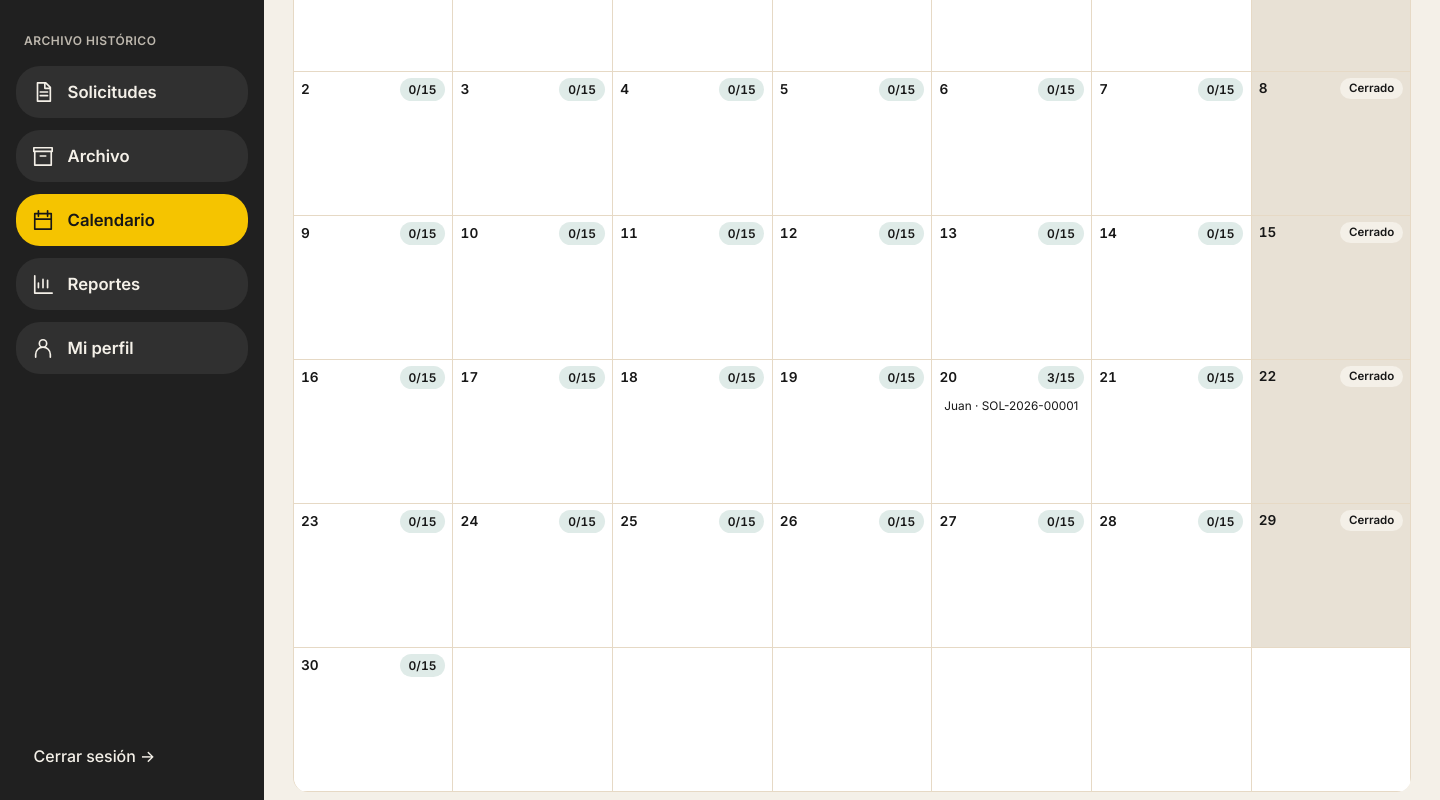
AppointmentsCalendarPage › shows the appointment detail when an appointment in the calendar is selected
The width and height of the screenshot is (1440, 800).
(page scrolled)
Expected: the heading "detalle de la cita" is not shown
Click the button with aria-label "acta de fundación de la villa" at (1012, 406), box [940, 394, 1084, 418]
(page scrolled)
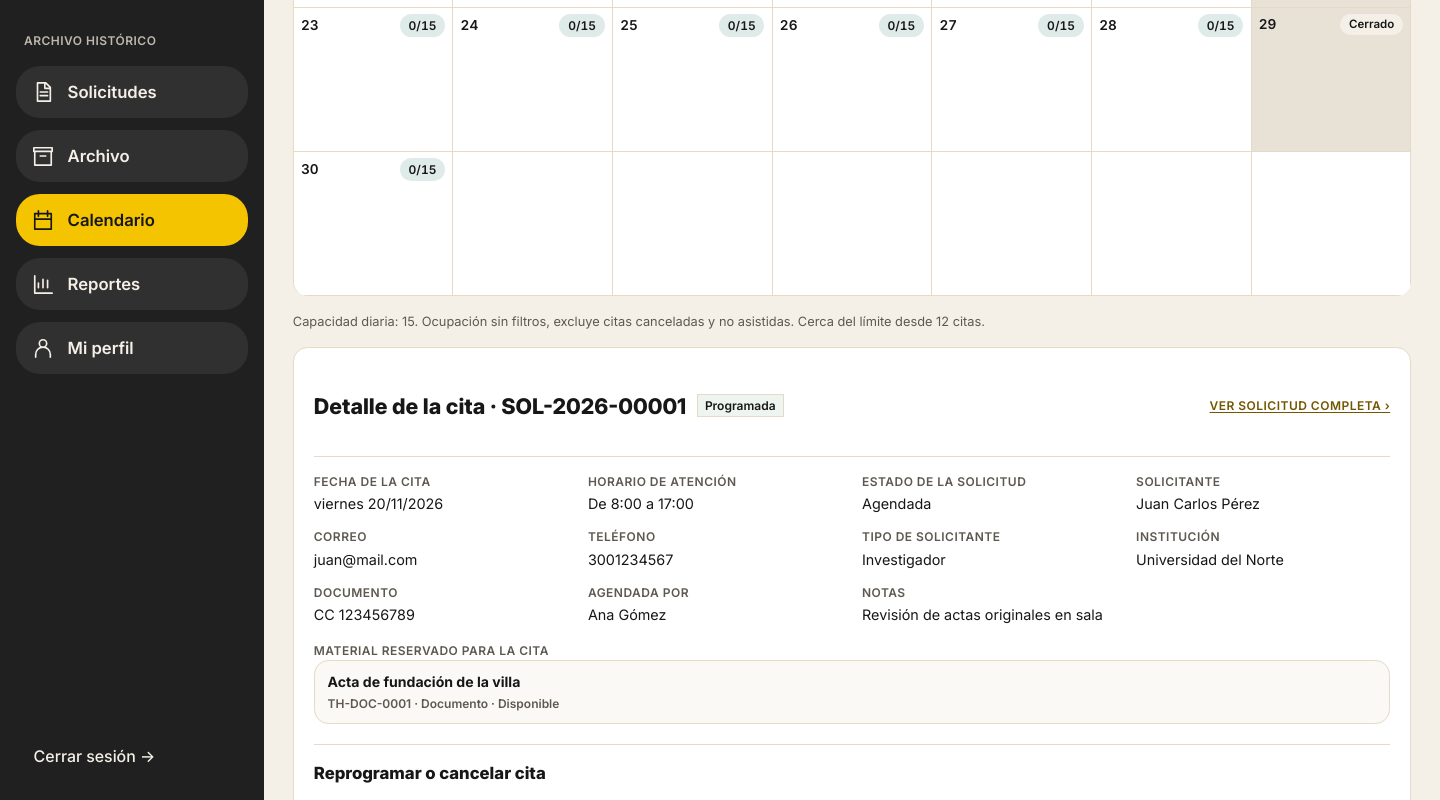
Result: the text "viernes 20/11/2026" is shown at [314, 495, 443, 512]
Result: the text "De 8:00 a 17:00" is shown at [588, 495, 694, 512]
Result: the text "Juan Carlos Pérez" is shown at [1136, 495, 1260, 512]
